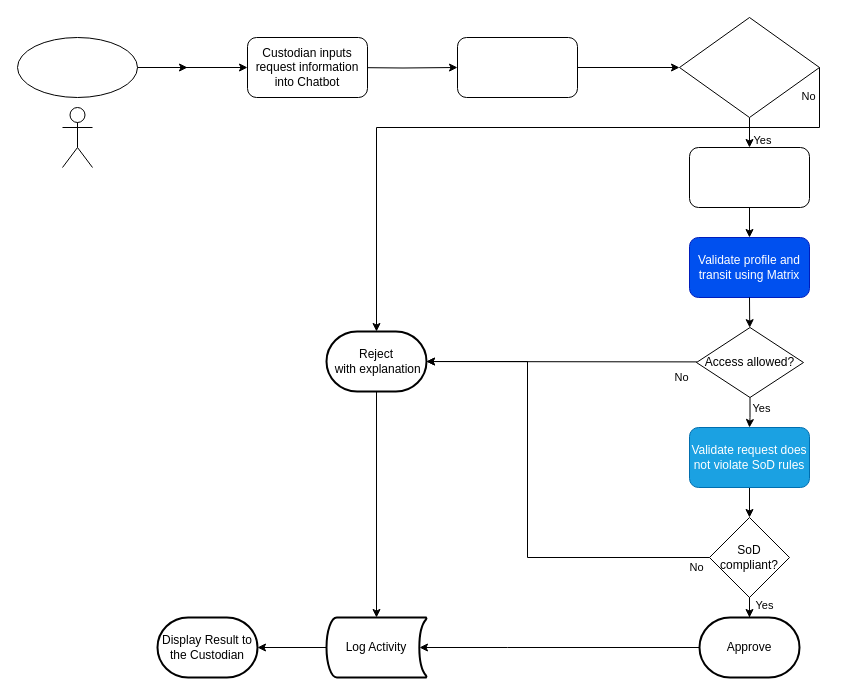
Image size: 845x696. Some labels were removed from this diagram. The shapes that lost their labels are listed below. From the top down, each one's centre as x and y in pixels, then its label:
At point (77, 67): "Custodian receives request".
At point (517, 67): "Lookup User's existing access in Weekly Access Report".
At point (749, 67): "User does not already have access or disabled access".
At point (77, 137): "Actor".
At point (749, 177): "Obtain latest version of Matrix".
